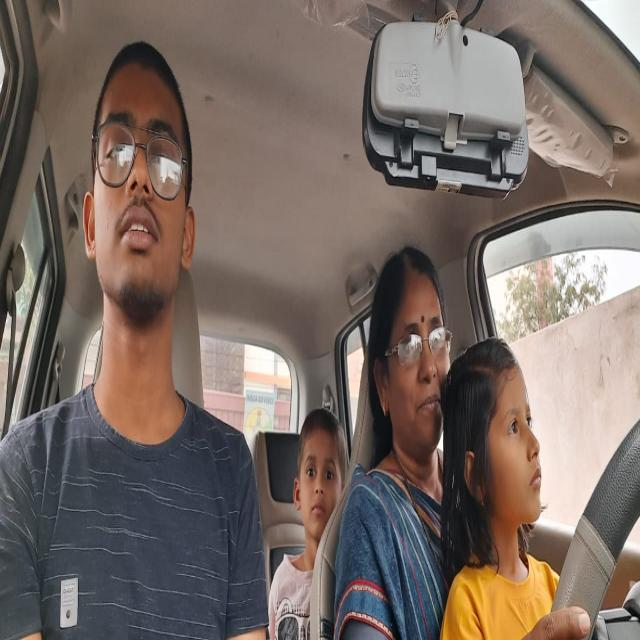child: (446, 335, 545, 548)
person: (81, 33, 198, 340), (364, 243, 452, 458), (291, 403, 347, 528)
